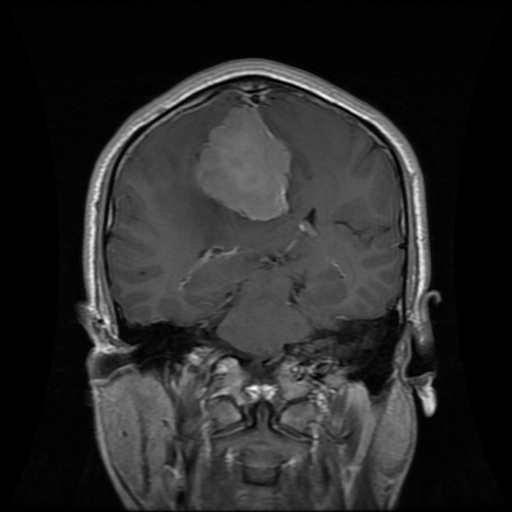meningioma: (198, 107, 291, 219)
